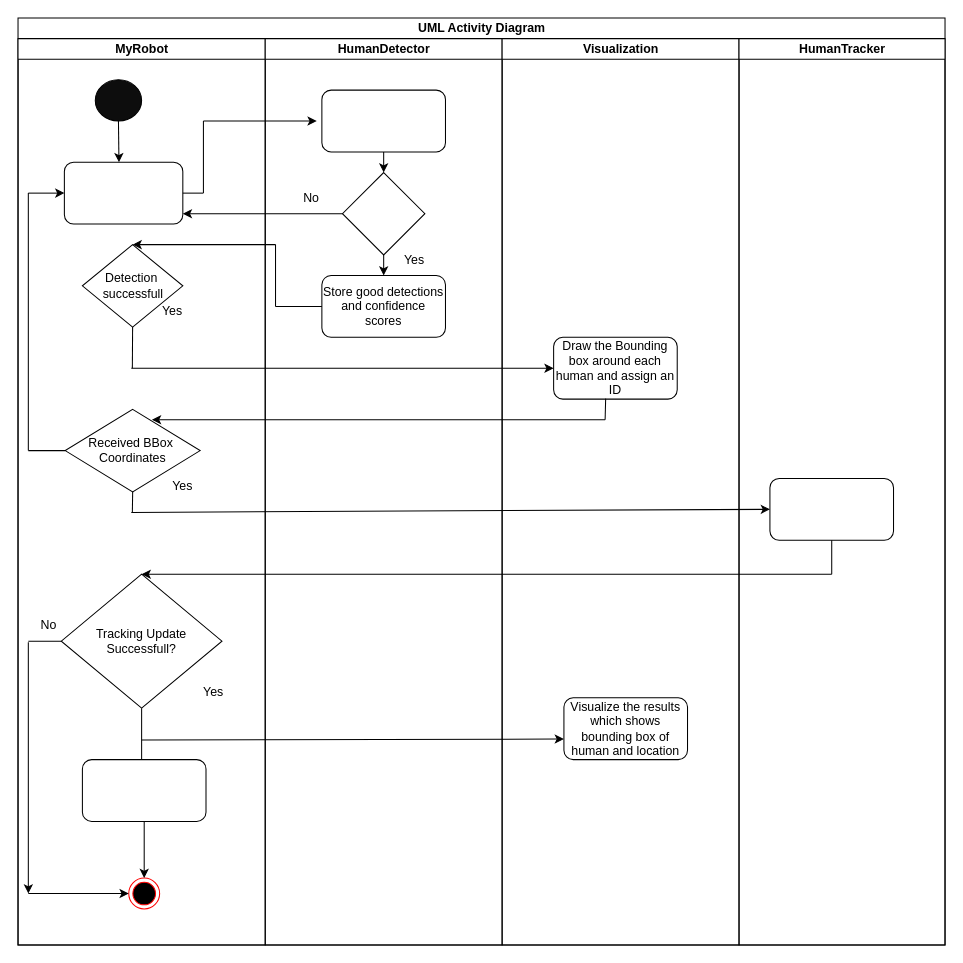
Some shapes in this 963 by 963 pixel diagram are drawn without their labels. Here are the shapes that lost their labels. From the top down, the centre of each, then its label:
At point (383, 120): "Process each frame using YOLO pre trained model to detect human".
At point (123, 192): "Initialize Camera/ read the recorded video. Read Next frames".
At point (383, 213): "Human Detected".
At point (831, 508): "Track Human In subsequent frames by updating bbox".
At point (143, 790): "Transform the human pose from bounding box coordinates to robot/world frame".
